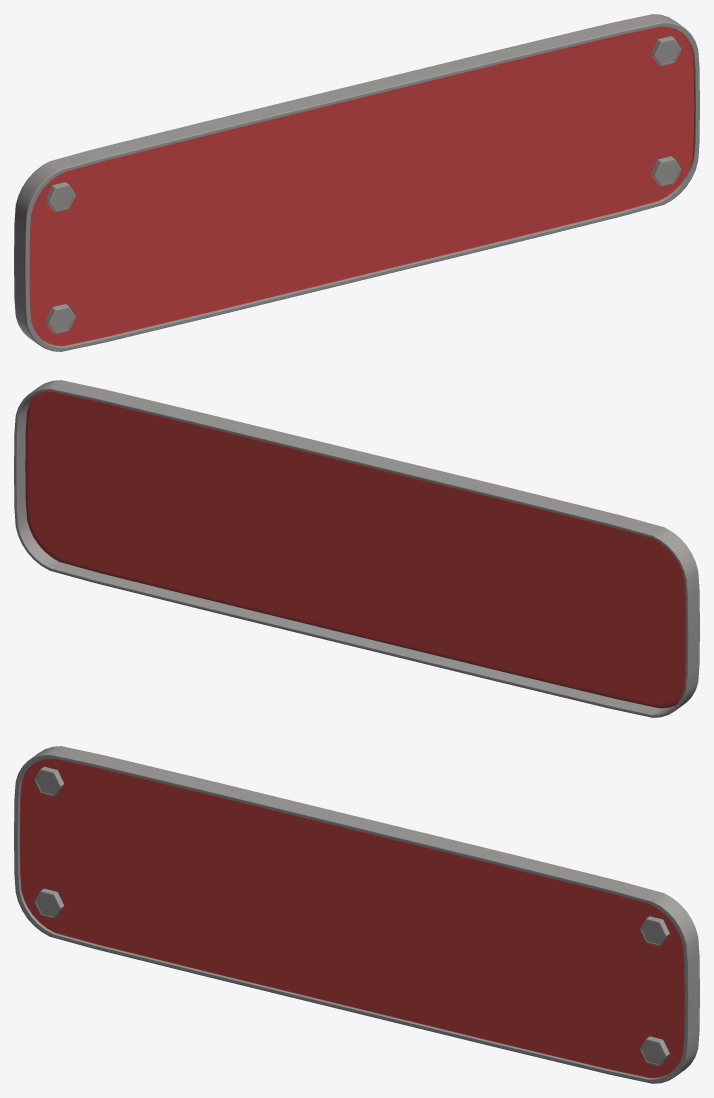
The model's file is CartelRojo.fbx.
3 renders of one model, top to bottom at view 1: azimuth 30°, elevation 25°; view 2: azimuth 150°, elevation 25°; view 3: azimuth 330°, elevation 25°, orthographic.
Parts seen in each view (by area): view 1: Cartel_high, Tornillos_high; view 2: Cartel_high; view 3: Cartel_high, Tornillos_high.
Boxes of the visible parts, <box> form: Cartel_high: <box>14,14,699,351</box>; Tornillos_high: <box>45,36,681,334</box>; Cartel_high: <box>14,380,699,717</box>; Cartel_high: <box>14,746,699,1083</box>; Tornillos_high: <box>34,766,669,1066</box>.
Size of the model in its own units: 0.0379 by 0.01 by 0.00131.
